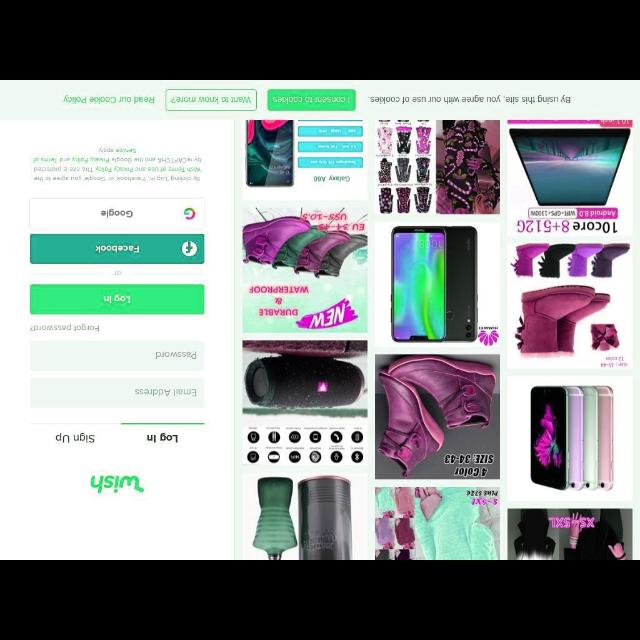image: (508, 240, 632, 368), (506, 376, 632, 500), (375, 354, 499, 480), (376, 221, 498, 347), (244, 340, 366, 464), (244, 210, 366, 332), (508, 129, 632, 235), (376, 120, 498, 214), (244, 472, 366, 558), (247, 119, 367, 201), (375, 488, 499, 560), (508, 510, 632, 560), (90, 474, 144, 496), (182, 241, 196, 257), (184, 208, 196, 222)
input: (32, 378, 204, 408), (31, 340, 202, 370)
multitab: (33, 426, 203, 446)
text: (32, 147, 202, 181), (371, 94, 571, 104), (170, 93, 252, 105), (62, 94, 156, 104), (136, 386, 198, 398), (272, 95, 352, 104), (30, 323, 101, 333), (56, 430, 98, 444), (94, 243, 140, 253), (147, 432, 179, 446), (154, 350, 196, 360), (101, 209, 135, 219), (105, 294, 132, 304), (114, 270, 122, 276)
textbutton: (32, 284, 204, 314), (29, 200, 203, 228), (31, 236, 203, 264), (269, 88, 355, 110), (166, 90, 256, 110)
